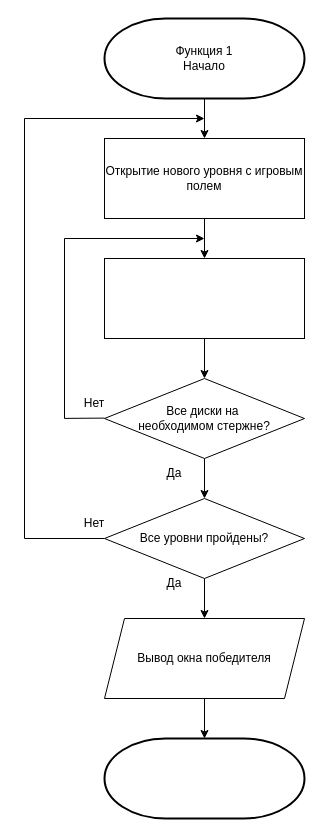
Image size: 323x836. Some labels were removed from this diagram. The shapes that lost their labels are listed below. From the top down, each one's centre as x and y in pixels, then its label:
point 204,298: Ход игрока
point 204,778: Функция 1 Конец
